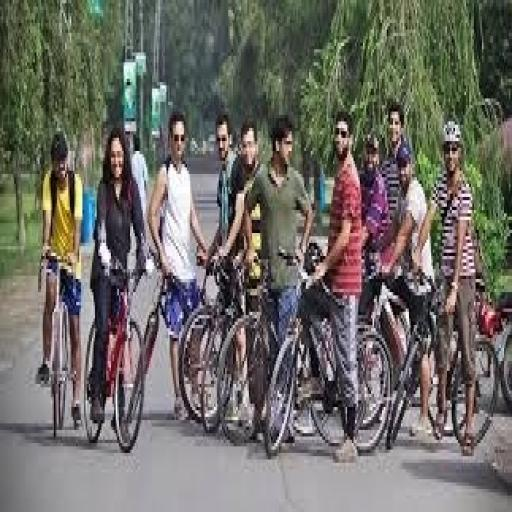cycling: (241, 112, 317, 450), (412, 115, 482, 453), (306, 105, 366, 469), (146, 108, 211, 427), (87, 122, 151, 436), (377, 138, 439, 446), (35, 125, 87, 433)
